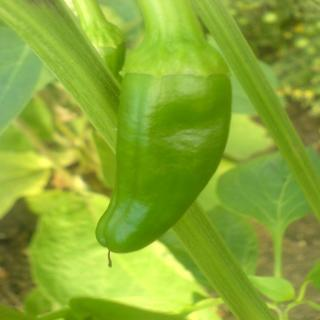Bell pepper: (94, 0, 232, 255)
